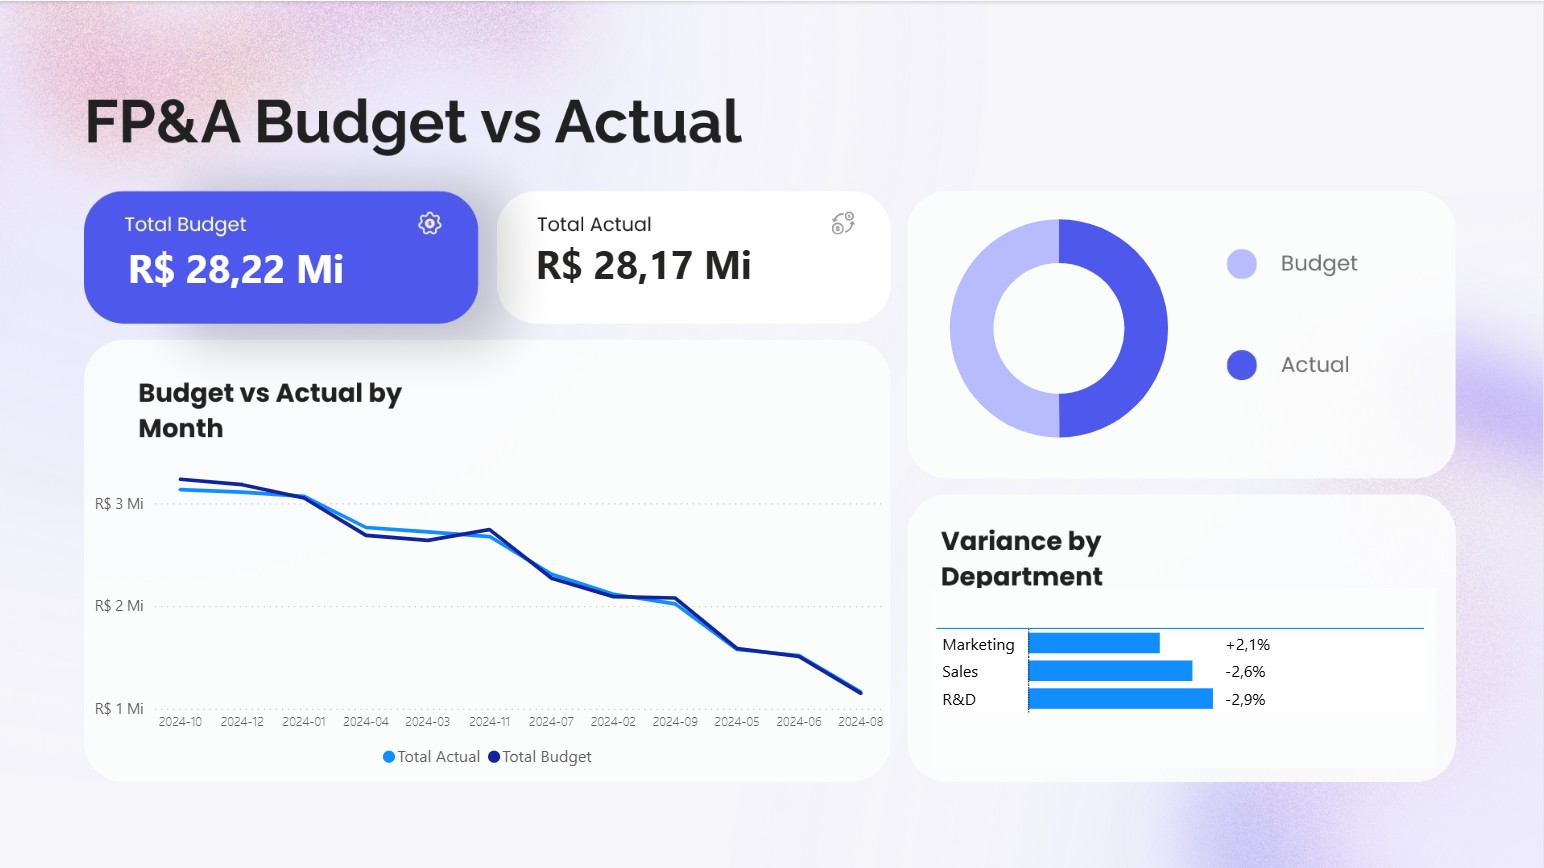

Layout of this report page (visuals, bound fields, positions):
{"tool":"powerbi","page":{"name":"FP&A Executive Summary","canvas":[1280,720],"ordinal":0},"visuals":[{"type":"lineChart","fields":{"Y":["public fact_fpa_variance_clean.Total Actual","public fact_fpa_variance_clean.Total Budget"],"Category":["public fact_fpa_variance_clean.month_year"]},"box":[75.6,359.5,665,284.9],"z":0},{"type":"cardVisual","fields":{"Data":["public fact_fpa_variance_clean.Total Actual"]},"box":[424.4,169.9,273.1,90.4],"z":4000},{"type":"cardVisual","fields":{"Data":["public fact_fpa_variance_clean.Total Budget"]},"box":[57.1,165.1,260.8,99.2],"z":7500},{"type":"tableEx","fields":{"Values":["public fact_fpa_variance_clean.department","public fact_fpa_variance_clean.Variance % Abs - Selected Depts","public fact_fpa_variance_clean.Variance % Label - Selected Depts"]},"box":[771,485.6,419.6,149.3],"z":7501},{"type":"donutChart","fields":{"Y":["public fact_fpa_variance_clean.Total Actual","public fact_fpa_variance_clean.Total Budget"]},"box":[740.6,153.4,276.3,235.7],"z":7502}]}

Visuals, with their boxes in screenshot pixels (x1, y1, x2, y2), scaled from the page's 1280x720 canvas onto the 1544x868 screenshot:
lineChart - public fact_fpa_variance_clean.Total Actual x public fact_fpa_variance_clean.Total Budget: x1=91 y1=433 x2=893 y2=777
cardVisual - public fact_fpa_variance_clean.Total Actual: x1=512 y1=205 x2=841 y2=314
cardVisual - public fact_fpa_variance_clean.Total Budget: x1=69 y1=199 x2=383 y2=319
tableEx - public fact_fpa_variance_clean.department x public fact_fpa_variance_clean.Variance % Abs - Selected Depts: x1=930 y1=585 x2=1436 y2=765
donutChart - public fact_fpa_variance_clean.Total Actual x public fact_fpa_variance_clean.Total Budget: x1=893 y1=185 x2=1227 y2=469
